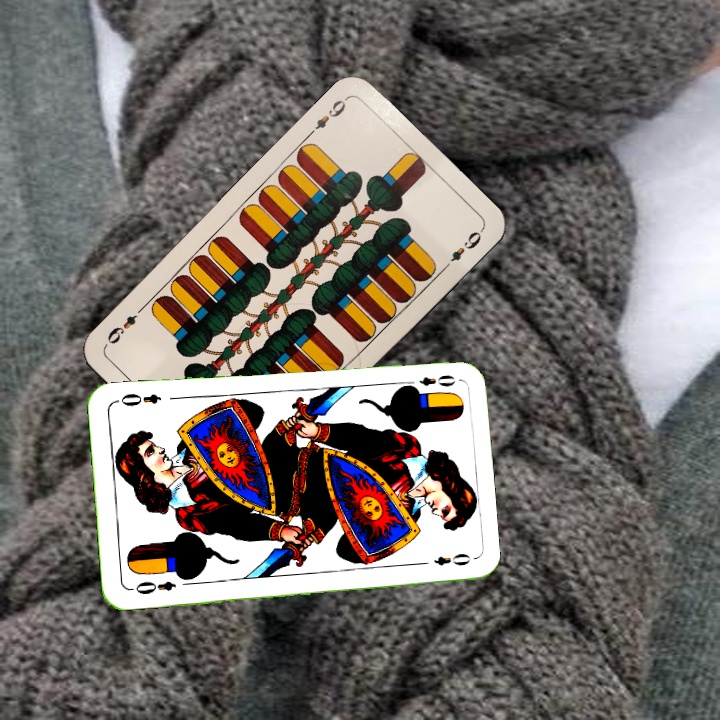E9: (304, 93, 351, 139)
EO: (401, 370, 458, 393), (126, 576, 178, 597)
